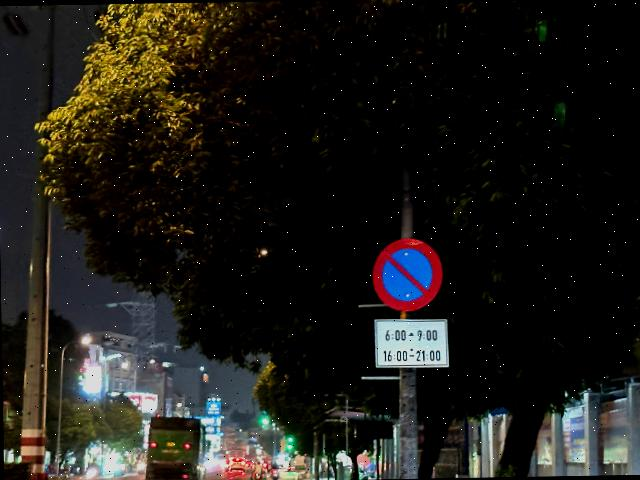cam-do-xe: (371, 236, 443, 312)
